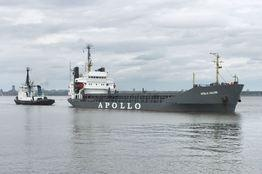Cargoship: (63, 37, 252, 112)
otherboat: (12, 65, 57, 111)
